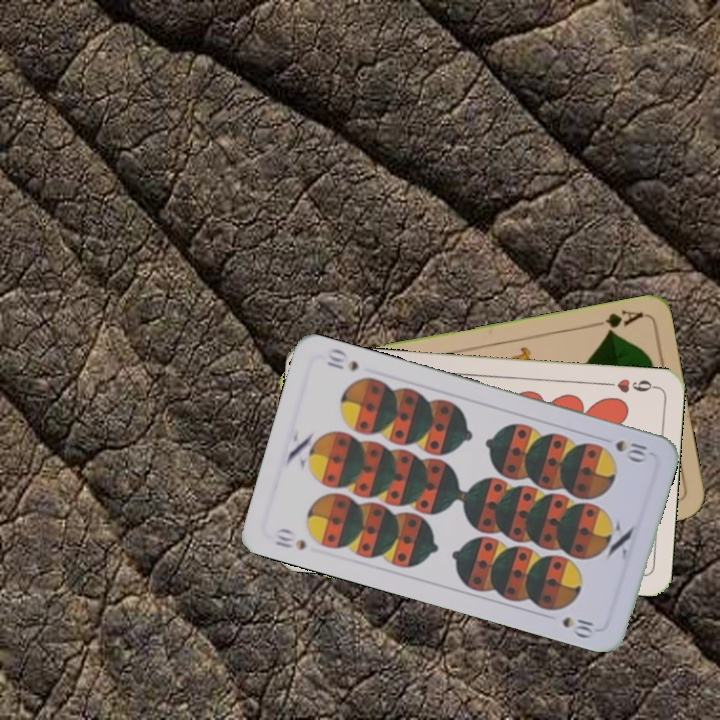GA: (587, 306, 646, 337)
H9: (599, 374, 659, 396)
S10: (270, 524, 309, 553), (611, 436, 650, 464)
